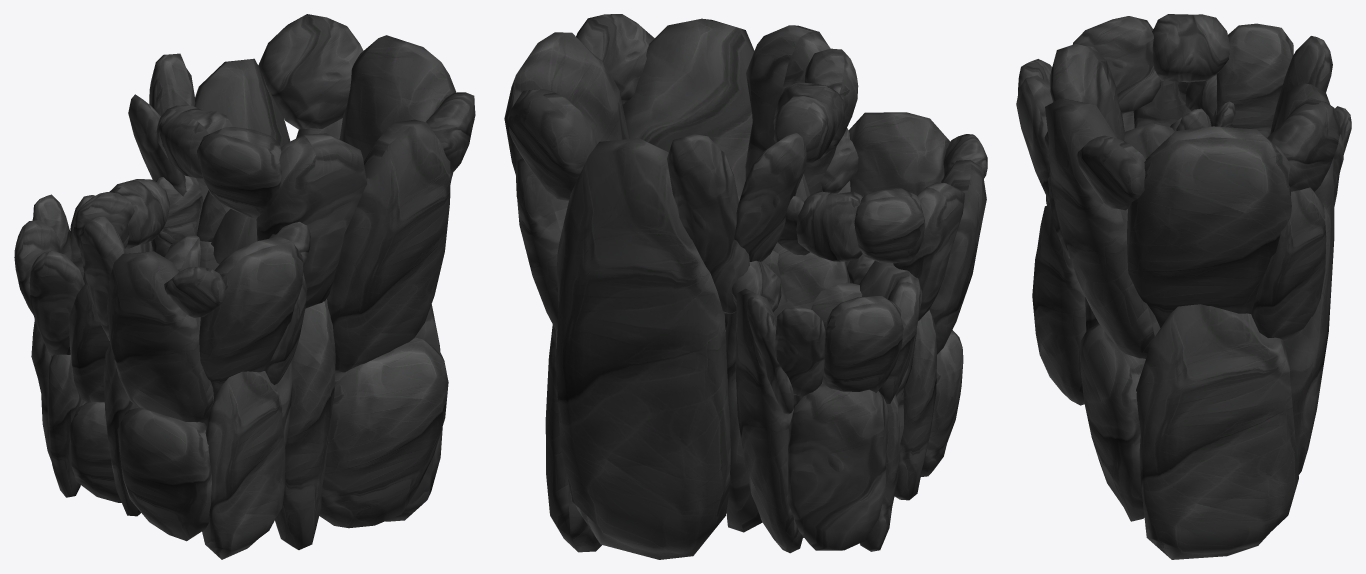
The model's file is IslandPlatformRocksShape.dae.
3 renders of one model, left to right at view 1: azimuth 30°, elevation 25°; view 2: azimuth 150°, elevation 25°; view 3: azimuth 270°, elevation 25°, orthographic. The views are drawn at different scales.
Visible parts, largest first — view 1: IslandPlatformRocks; view 2: IslandPlatformRocks; view 3: IslandPlatformRocks.
Part boxes in pixels (x1,y1,x2,y2): IslandPlatformRocks: [14, 14, 475, 559]; IslandPlatformRocks: [504, 14, 987, 559]; IslandPlatformRocks: [1016, 14, 1351, 559].
Size of the model in its own units: 75.19 by 85.22 by 57.51.
